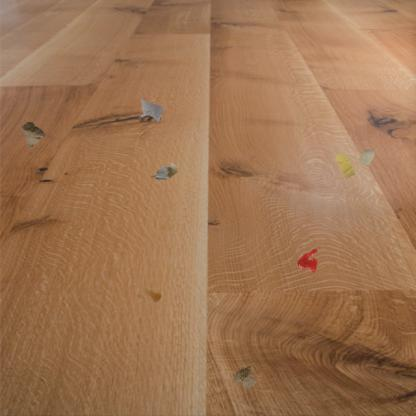dirty: (19, 120, 46, 150), (333, 151, 358, 182), (231, 364, 258, 392), (137, 97, 164, 123), (149, 160, 180, 182), (355, 148, 376, 169)
liquid: (296, 248, 318, 274), (136, 286, 162, 304)
